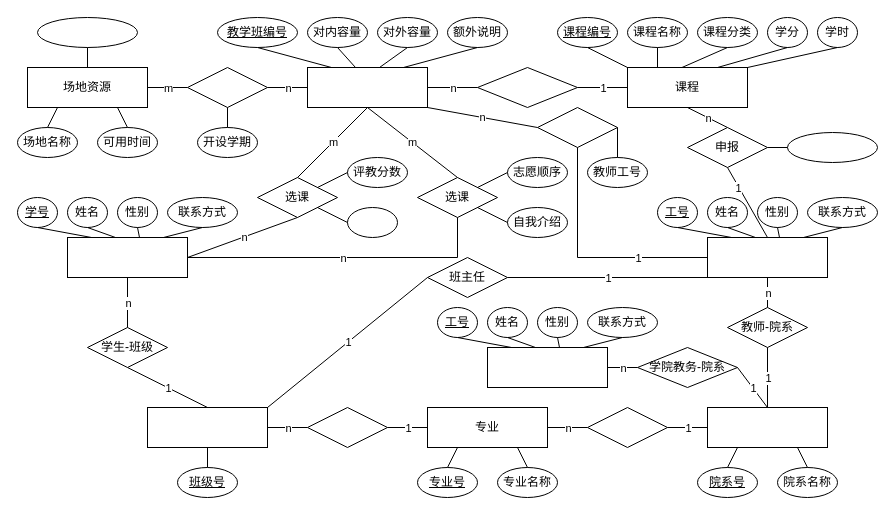
Image size: 895x515. Some labels were removed from this diagram. The centre of each missing label's shape, as x and y in pixels:
"专业-院系" goes at [627,427].
"使用" goes at [227,87].
"场地资源编号" goes at [87,32].
"学生" goes at [127,257].
"学院教务" goes at [547,367].
"开设" goes at [577,127].
"成绩" goes at [372,222].
"教学班" goes at [367,87].
"教师" goes at [767,257].
"班级" goes at [207,427].
"班级-专业" goes at [347,427].
"申报教师工号" goes at [832,147].
"课程-教学班" goes at [527,87].
"院系" goes at [767,427].
